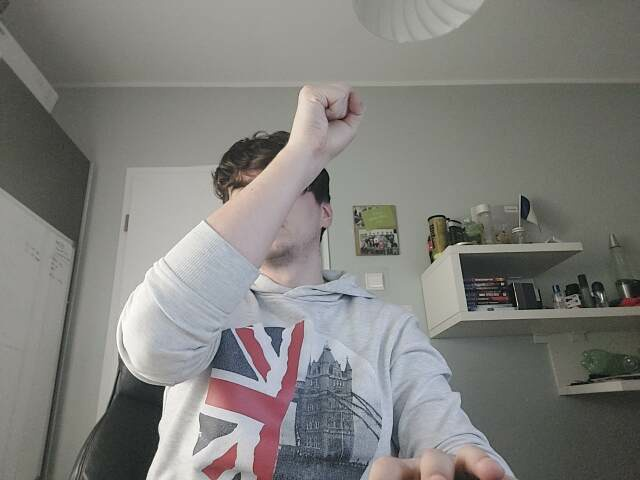yes: (298, 82, 363, 159)
